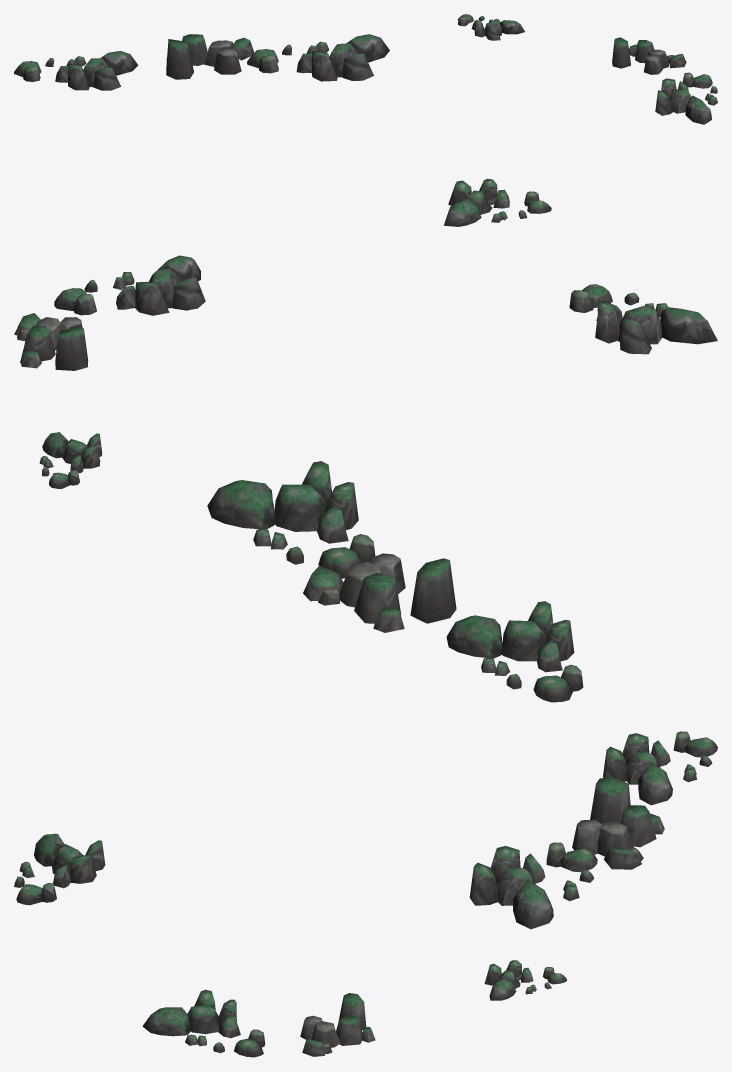
Rendered from Area_12_8.fbx.
3 renders of one model, top to bottom at view 1: azimuth 30°, elevation 25°; view 2: azimuth 150°, elevation 25°; view 3: azimuth 270°, elevation 25°, orthographic. The views are drawn at different scales.
Parts seen in each view (by area): view 1: Area_12_8; view 2: Area_12_8; view 3: Area_12_8.
Boxes of the visible parts, x1,y1,x2,y2 form: Area_12_8: [14, 14, 717, 226]; Area_12_8: [14, 255, 717, 702]; Area_12_8: [14, 731, 717, 1057].
Bounding box in the file's own units: 5186 × 316 × 4894.
